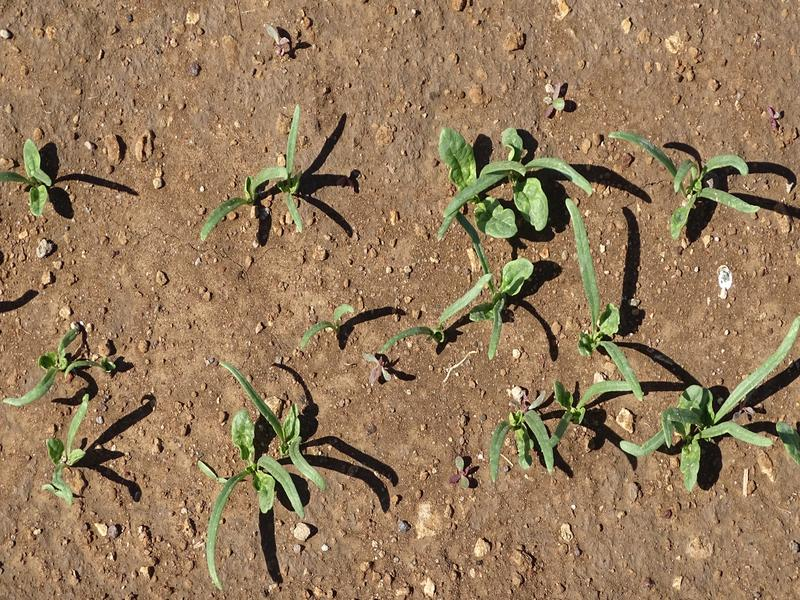Espinaca: (489, 381, 780, 492), (192, 358, 322, 574), (433, 123, 598, 233), (1, 330, 100, 504), (614, 129, 766, 236), (192, 103, 307, 242), (402, 244, 529, 358), (570, 205, 642, 379), (9, 143, 54, 214)
